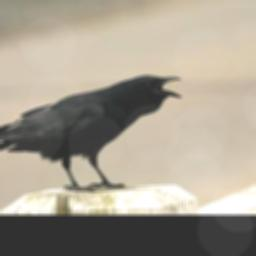Crow: (0, 75, 183, 192)
